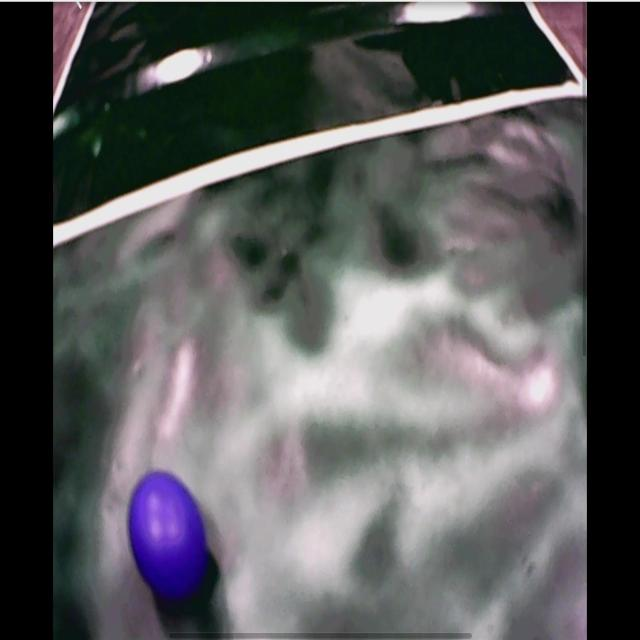ball: (128, 470, 208, 596)
